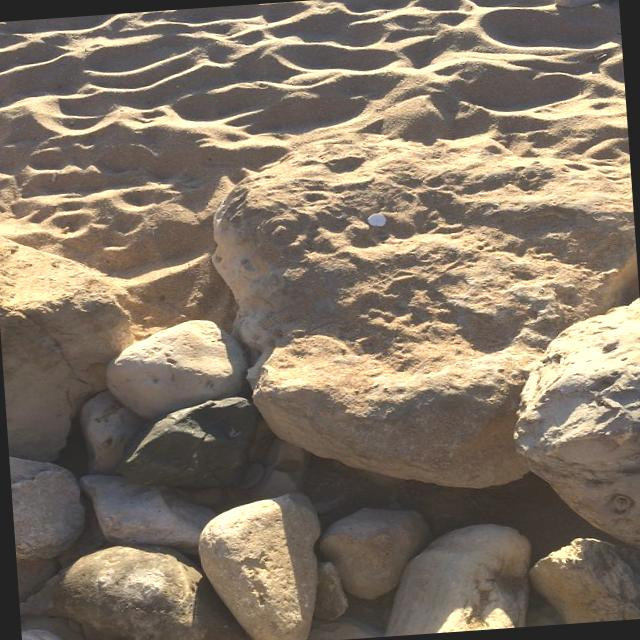Trash: (365, 210, 390, 228)
